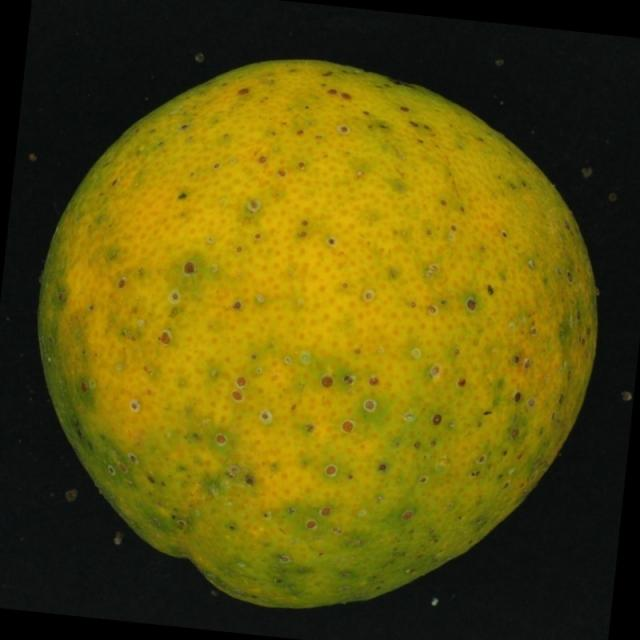grenning: (28, 42, 610, 629)
